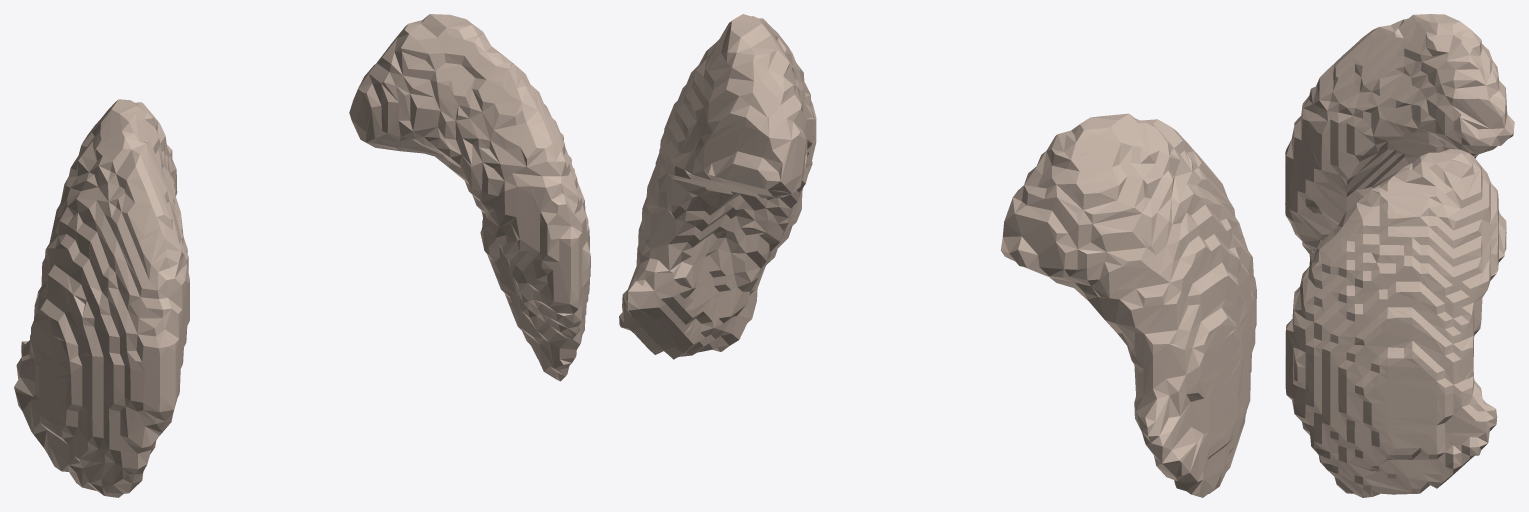
Rendered from hippocampus.glb.
3 views of the same model, side by side, from view 1: azimuth 30°, elevation 25°; view 2: azimuth 150°, elevation 25°; view 3: azimuth 270°, elevation 25° (orthographic). The views are drawn at different scales.
Visible parts, largest first — view 1: world; view 2: world; view 3: world.
Part boxes in pixels (x1,y1,x2,y2): world: (14, 14, 590, 497); world: (619, 14, 1256, 497); world: (1285, 14, 1514, 497).
Size of the model in its own units: 0.7582 by 0.4933 by 0.3214.
